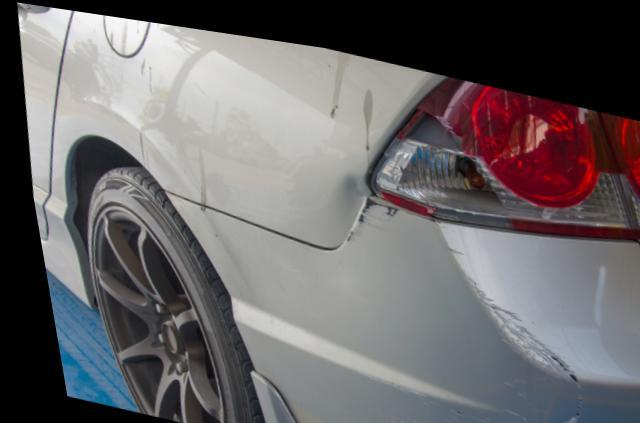lamp broken: (369, 63, 629, 219)
scratch: (372, 228, 576, 423), (339, 186, 396, 232)
